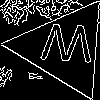W: (39, 23, 95, 72)
